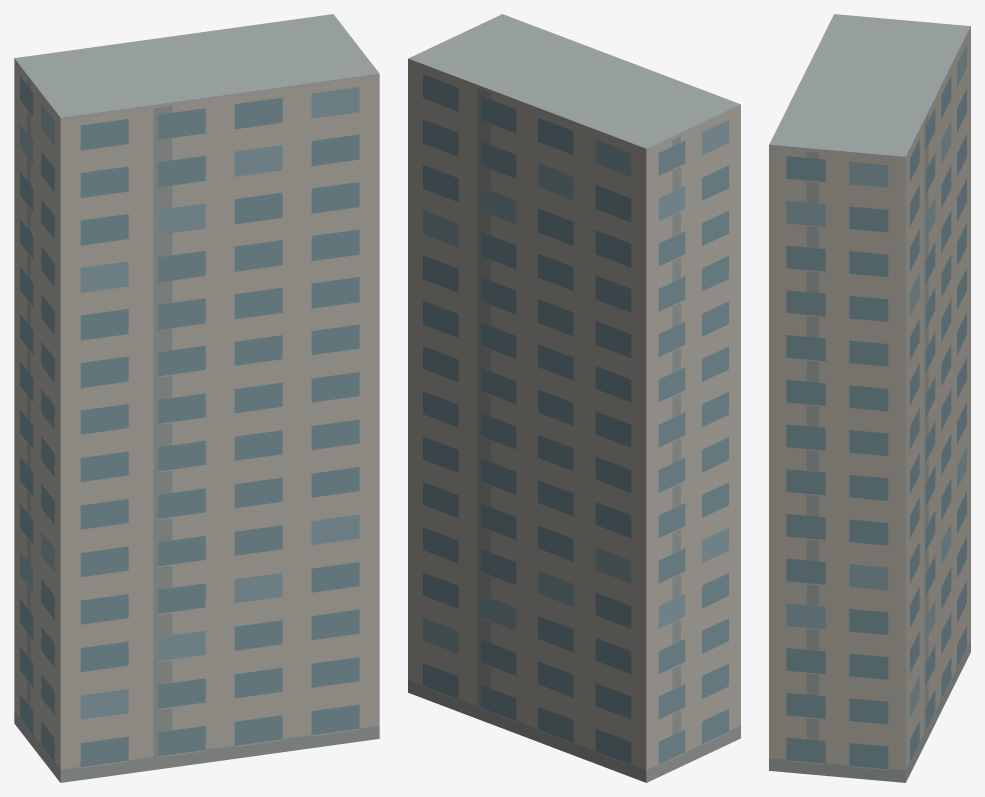
Rendered from residential-70f7a869-586d-4c9b-9668-42271cd22259.glb.
3 renders of one model, left to right at view 1: azimuth 30°, elevation 25°; view 2: azimuth 150°, elevation 25°; view 3: azimuth 270°, elevation 25°, orthographic. The views are drawn at different scales.
Visible parts, largest first — view 1: residential-70f7a869-586d-4c9b-9668-42271cd22259.tmp; view 2: residential-70f7a869-586d-4c9b-9668-42271cd22259.tmp; view 3: residential-70f7a869-586d-4c9b-9668-42271cd22259.tmp.
Boxes of the visible parts, left/top/right/bottom form: residential-70f7a869-586d-4c9b-9668-42271cd22259.tmp: left=14, top=14, right=379, bottom=782; residential-70f7a869-586d-4c9b-9668-42271cd22259.tmp: left=408, top=14, right=740, bottom=782; residential-70f7a869-586d-4c9b-9668-42271cd22259.tmp: left=769, top=14, right=970, bottom=782.
Size of the model in its own units: 21.54 by 44 by 12.86.
